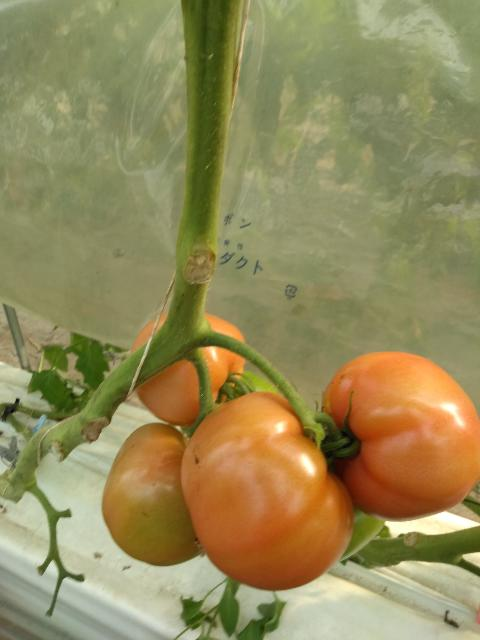b_green: (339, 505, 386, 562), (224, 370, 288, 404)
b_half_ripened: (180, 391, 356, 591), (321, 351, 480, 522), (102, 422, 205, 567), (131, 307, 247, 429)
